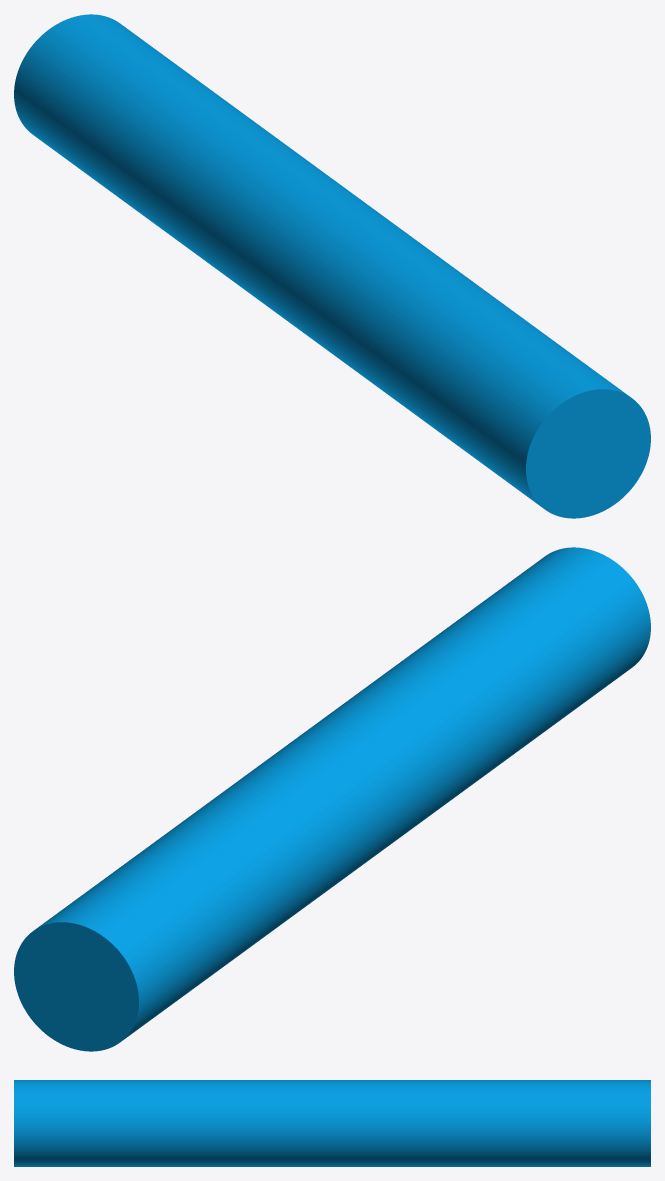
Rendered from cano.obj.
3 renders of one model, top to bottom at view 1: azimuth 30°, elevation 25°; view 2: azimuth 150°, elevation 25°; view 3: azimuth 270°, elevation 25°, orthographic. The views are drawn at different scales.
Parts seen in each view (by area): view 1: Object.1; view 2: Object.1; view 3: Object.1.
Part boxes in pixels (bbox=[...]): Object.1: bbox=[14, 14, 650, 518]; Object.1: bbox=[14, 547, 650, 1051]; Object.1: bbox=[14, 1080, 650, 1166].
Bounding box in the file's own units: 14.54 × 13.97 × 103.
